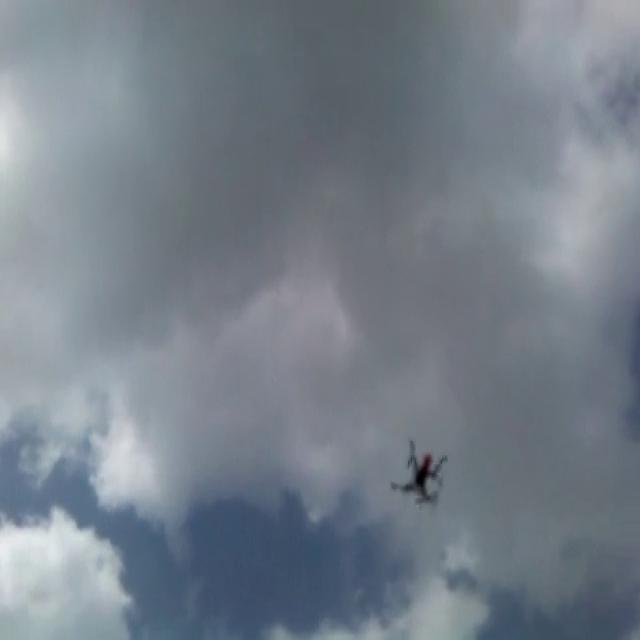drone: (390, 437, 448, 505)
